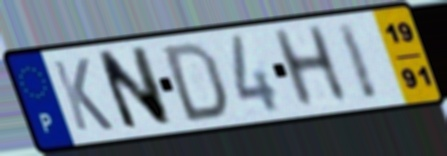4: (230, 32, 283, 117)
D: (161, 39, 231, 125)
H: (267, 22, 353, 112)
I: (332, 19, 382, 104)
K: (48, 55, 117, 134)
N: (92, 43, 176, 135)
